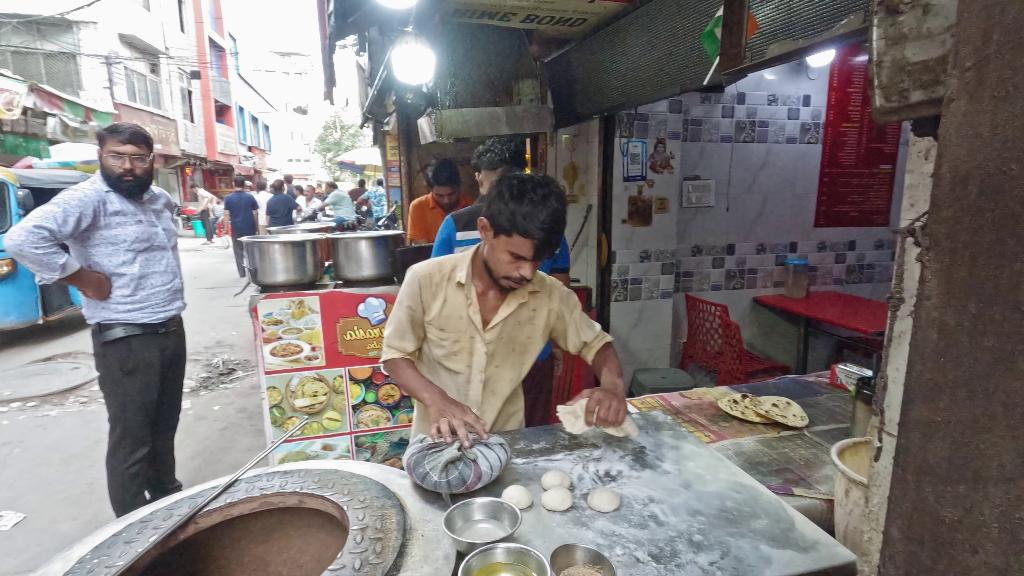garbage: (0, 500, 28, 534)
